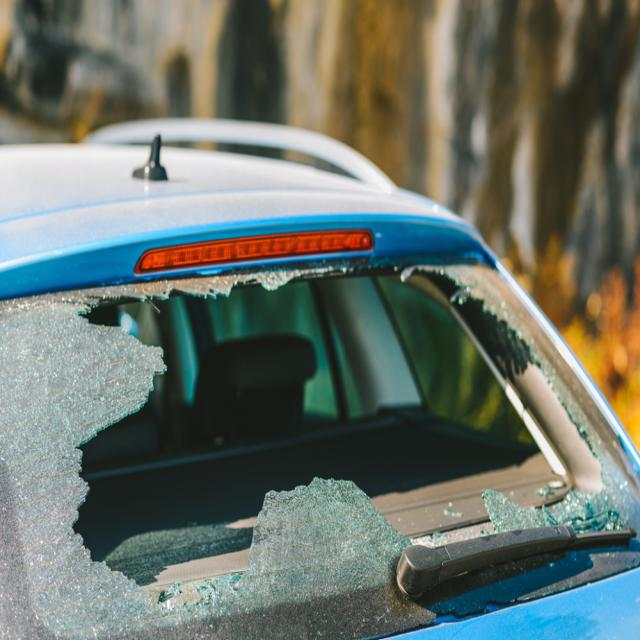Windshield: (6, 217, 624, 618)
